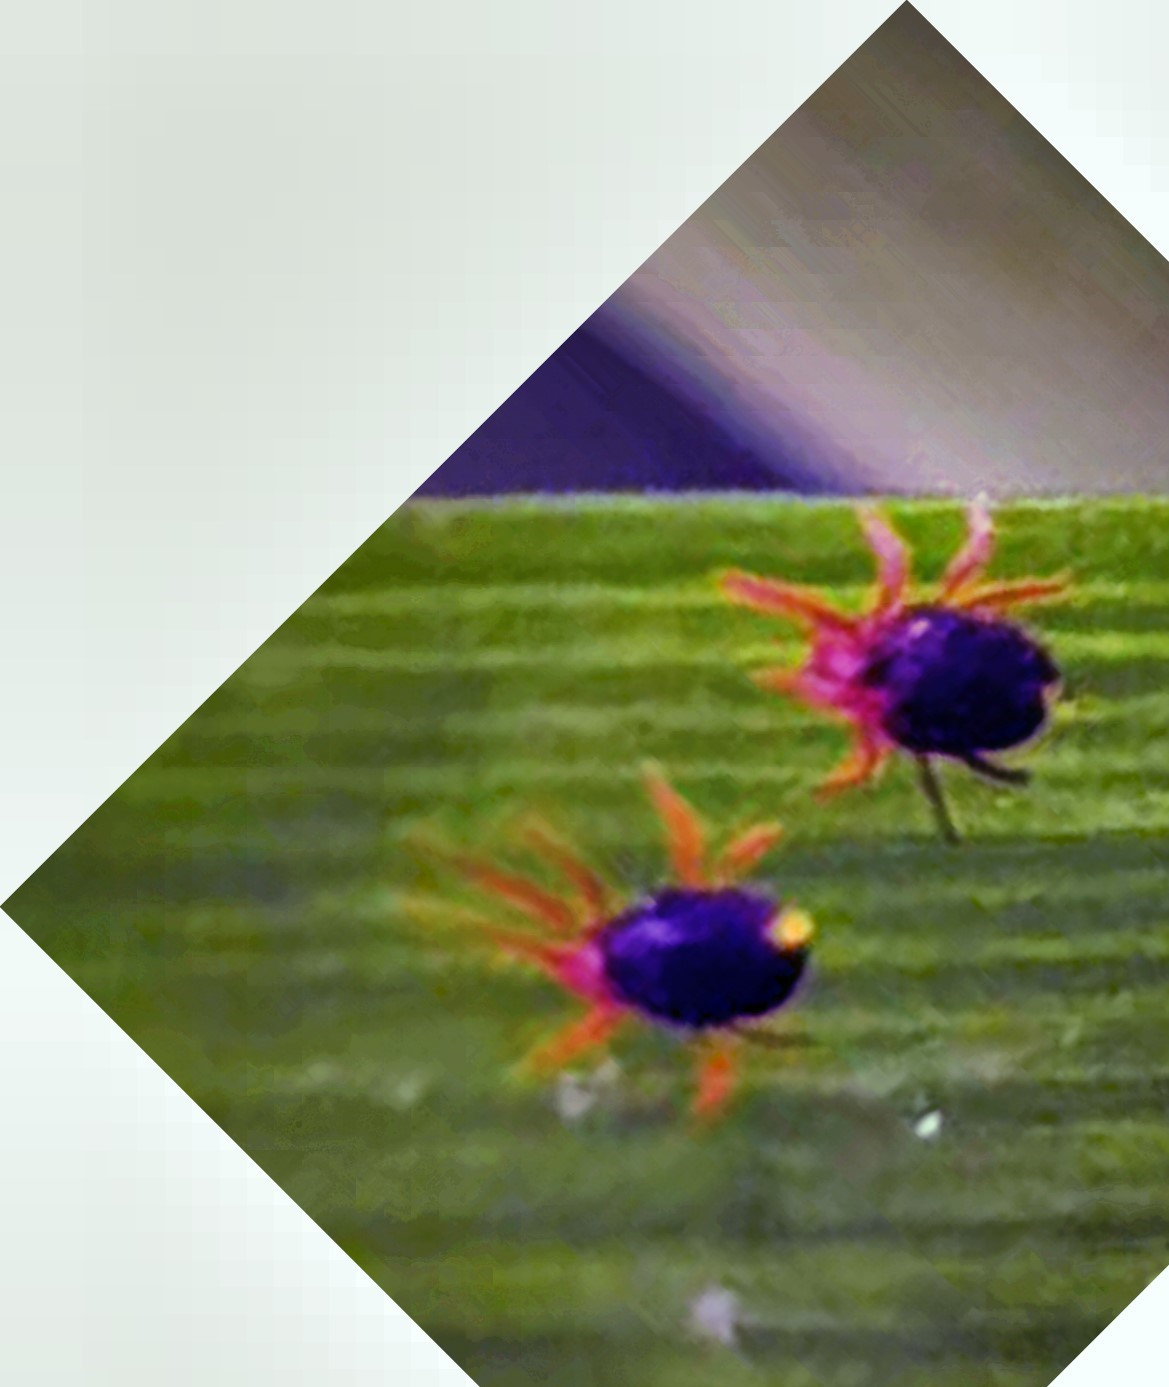Wheat Red Spider: (389, 491, 1079, 1163)
